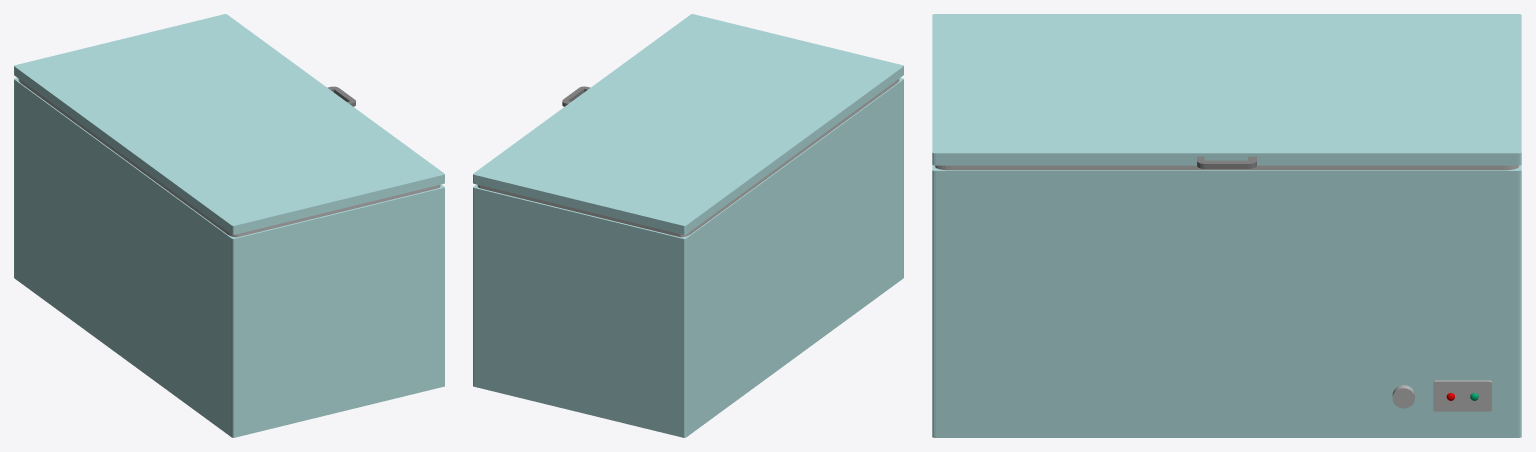
The model's file is freezer.fbx.
3 views of the same model, side by side, from view 1: azimuth 30°, elevation 25°; view 2: azimuth 150°, elevation 25°; view 3: azimuth 270°, elevation 25° (orthographic). The views are drawn at different scales.
Visible parts, largest first — view 1: Cylinder.003; view 2: Cylinder.003; view 3: Cylinder.003.
Boxes of the visible parts, x1,y1,x2,y2 form: Cylinder.003: (14,14,444,437); Cylinder.003: (473,14,903,437); Cylinder.003: (932,14,1521,437).
Bounding box in the file's own units: 118 × 110 × 200.
